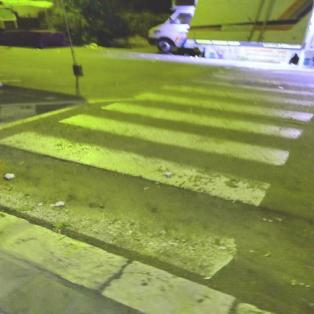Paso de Cebra: (24, 99, 308, 169)
